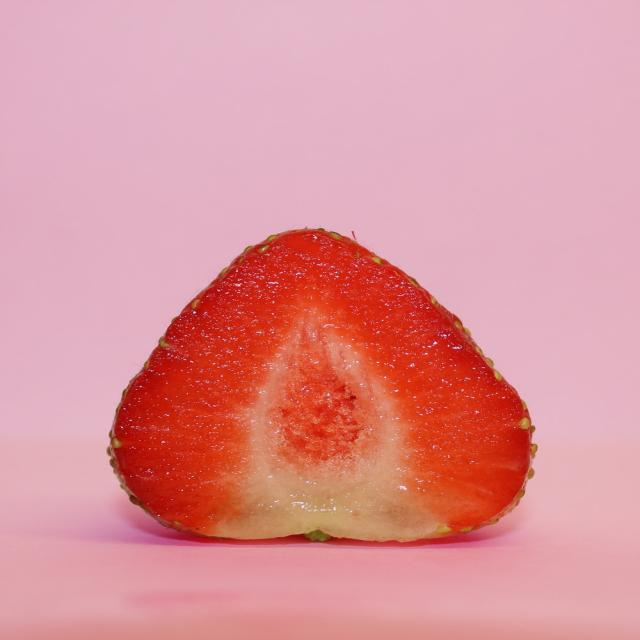strawberry: (80, 209, 570, 582)
